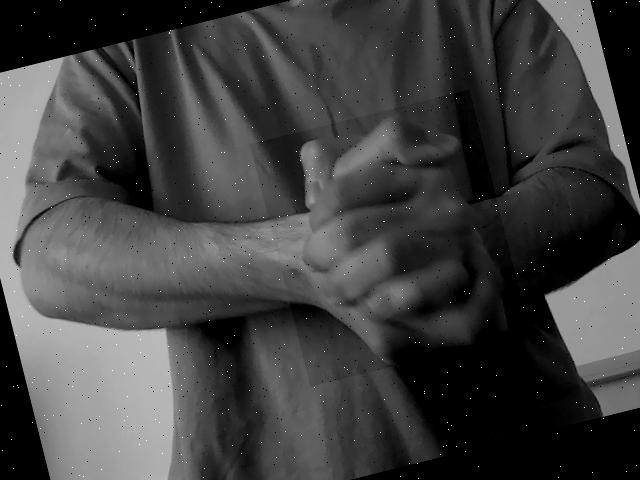friend: (271, 111, 526, 365)
